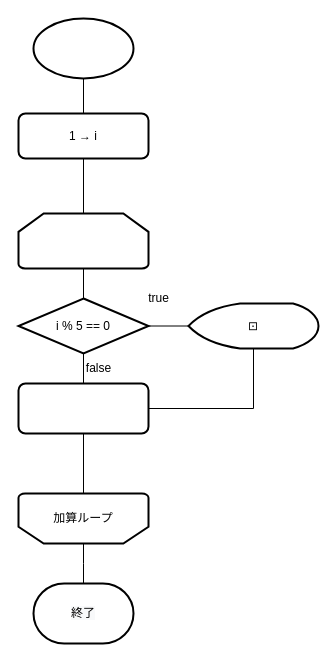
Image size: 336x666. Some labels were removed from this diagram. Each missing label, with the box of its shape:
i + 1 → i: (17, 382, 149, 434)
加算ループ i <= 100: (17, 212, 149, 269)
開始: (32, 17, 134, 79)
